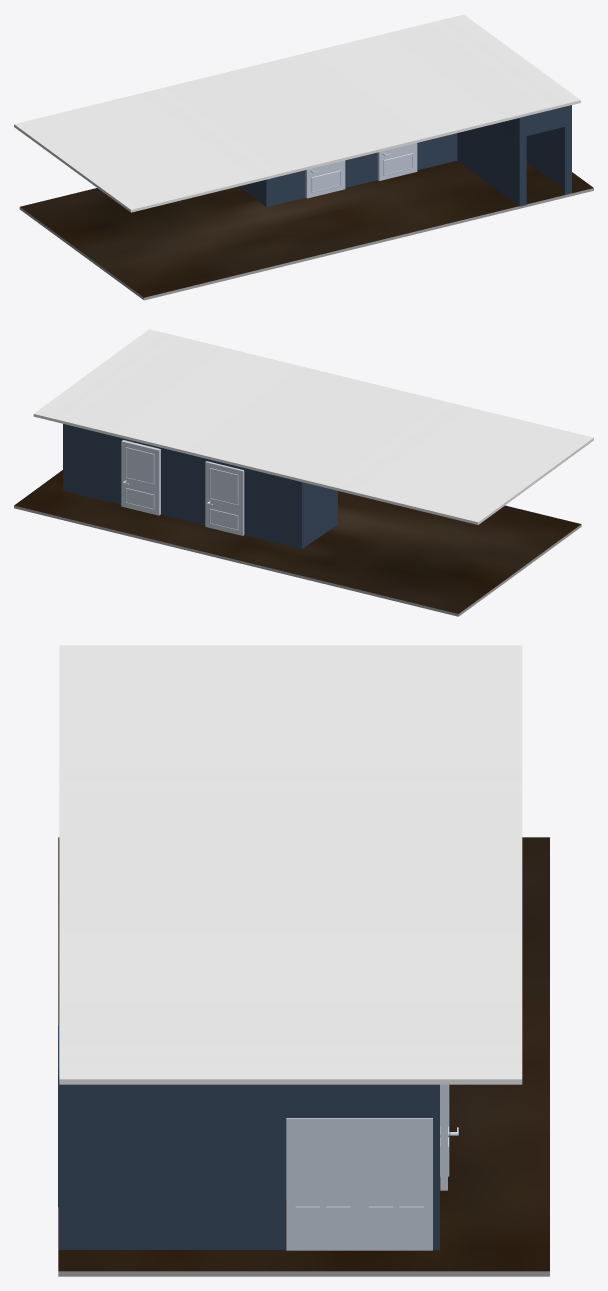
File: Blend_PasilloNestorCorregido_N_v23.fbx
3 renders of one model, top to bottom at view 1: azimuth 30°, elevation 25°; view 2: azimuth 150°, elevation 25°; view 3: azimuth 270°, elevation 25°, orthographic. The views are drawn at different scales.
Visible parts, largest first — view 1: Techo.003, Suelo.002, ParedesPasillo.001, Puerta.005, Puerta.004; view 2: Techo.003, Suelo.002, ParedesPasillo.001, Puerta.007, Puerta.006; view 3: Techo.003, ParedesPasillo.001, Suelo.002, PuertaSalon.002, PuertaSalon.003, Puerta.007.
Boxes of the visible parts, x1,y1,x2,y2 form: Techo.003: [14, 14, 580, 212]; Suelo.002: [19, 160, 593, 300]; ParedesPasillo.001: [240, 105, 571, 207]; Puerta.005: [377, 143, 417, 180]; Puerta.004: [305, 160, 345, 198]; Techo.003: [33, 329, 593, 524]; Suelo.002: [14, 442, 581, 616]; ParedesPasillo.001: [63, 424, 337, 548]; Puerta.007: [121, 440, 160, 515]; Puerta.006: [205, 461, 244, 535]; Techo.003: [59, 645, 522, 1084]; ParedesPasillo.001: [58, 1025, 439, 1249]; Suelo.002: [58, 837, 549, 1276]; PuertaSalon.002: [286, 1118, 359, 1250]; PuertaSalon.003: [360, 1118, 432, 1250]; Puerta.007: [440, 1084, 458, 1190].
Bounding box in the file's own units: 1366 × 264 × 636.
Materials: 11 (11 with a texture image).
